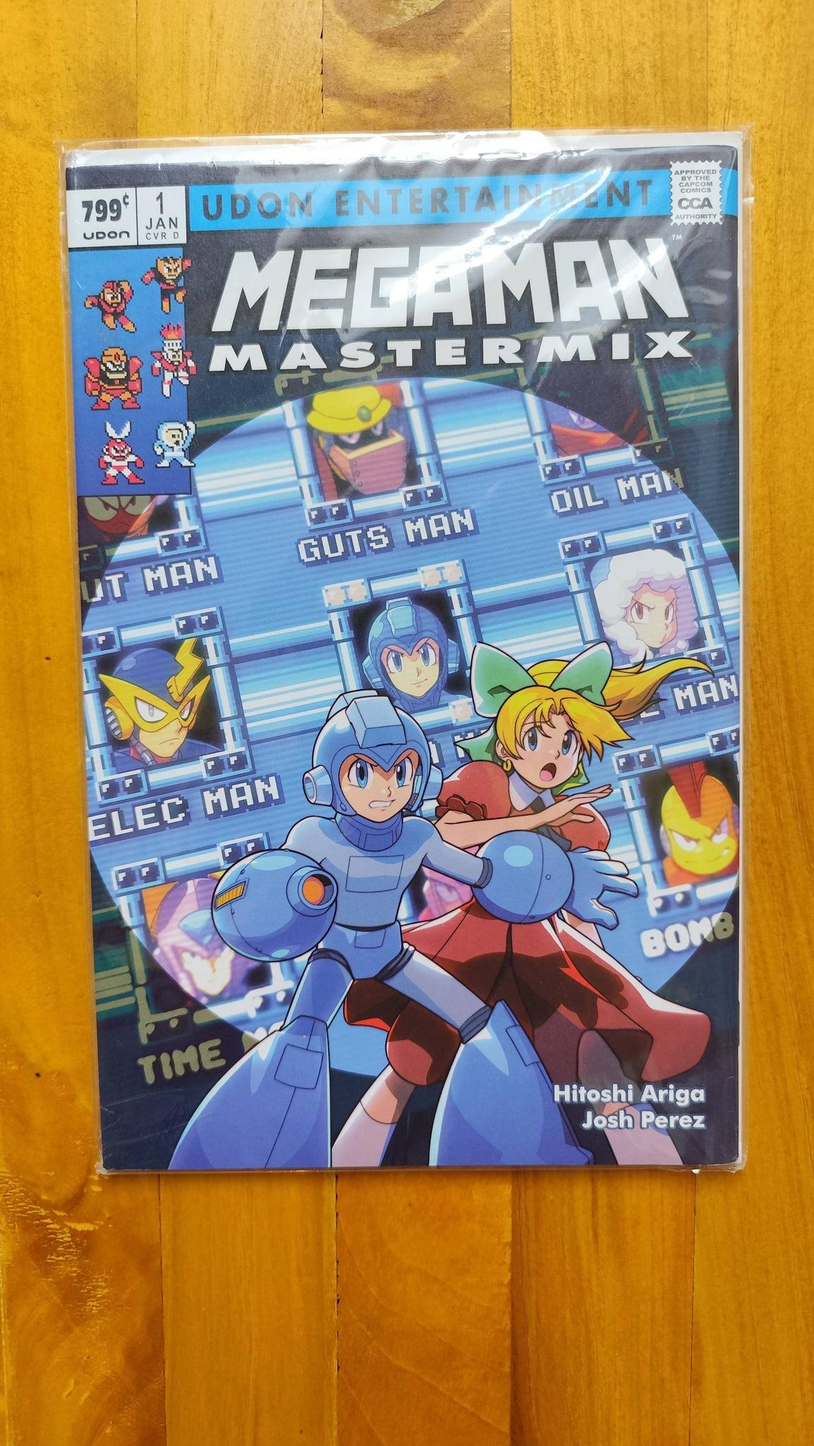comic: (65, 132, 746, 1169)
